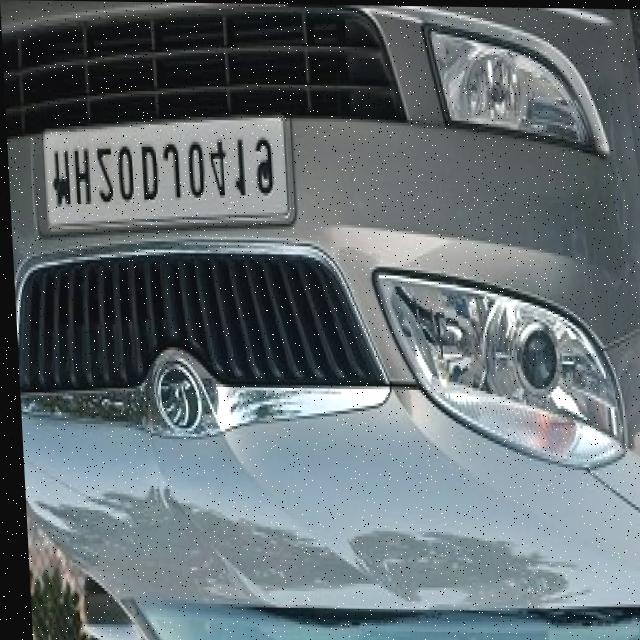plate: (41, 116, 289, 236)
